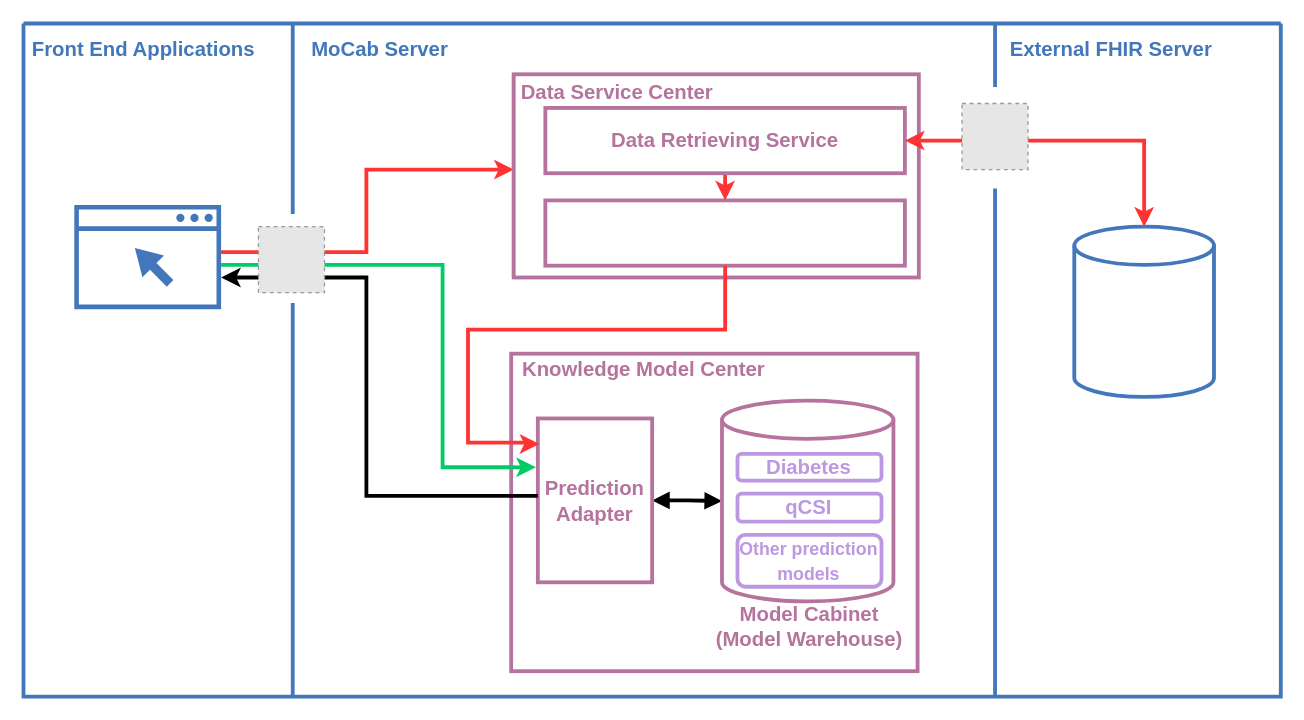
Some shapes in this 1304 by 720 pixel diagram are drawn without their labels. Grey dashed boxes stand in for pictures. Here are the shapes that lost their labels. From the top down, the box of each, then its label:
(543, 198, 906, 267): Data Preprocessing Service
(74, 204, 220, 309): EMR Client
(1072, 224, 1215, 398): FHIR Server
